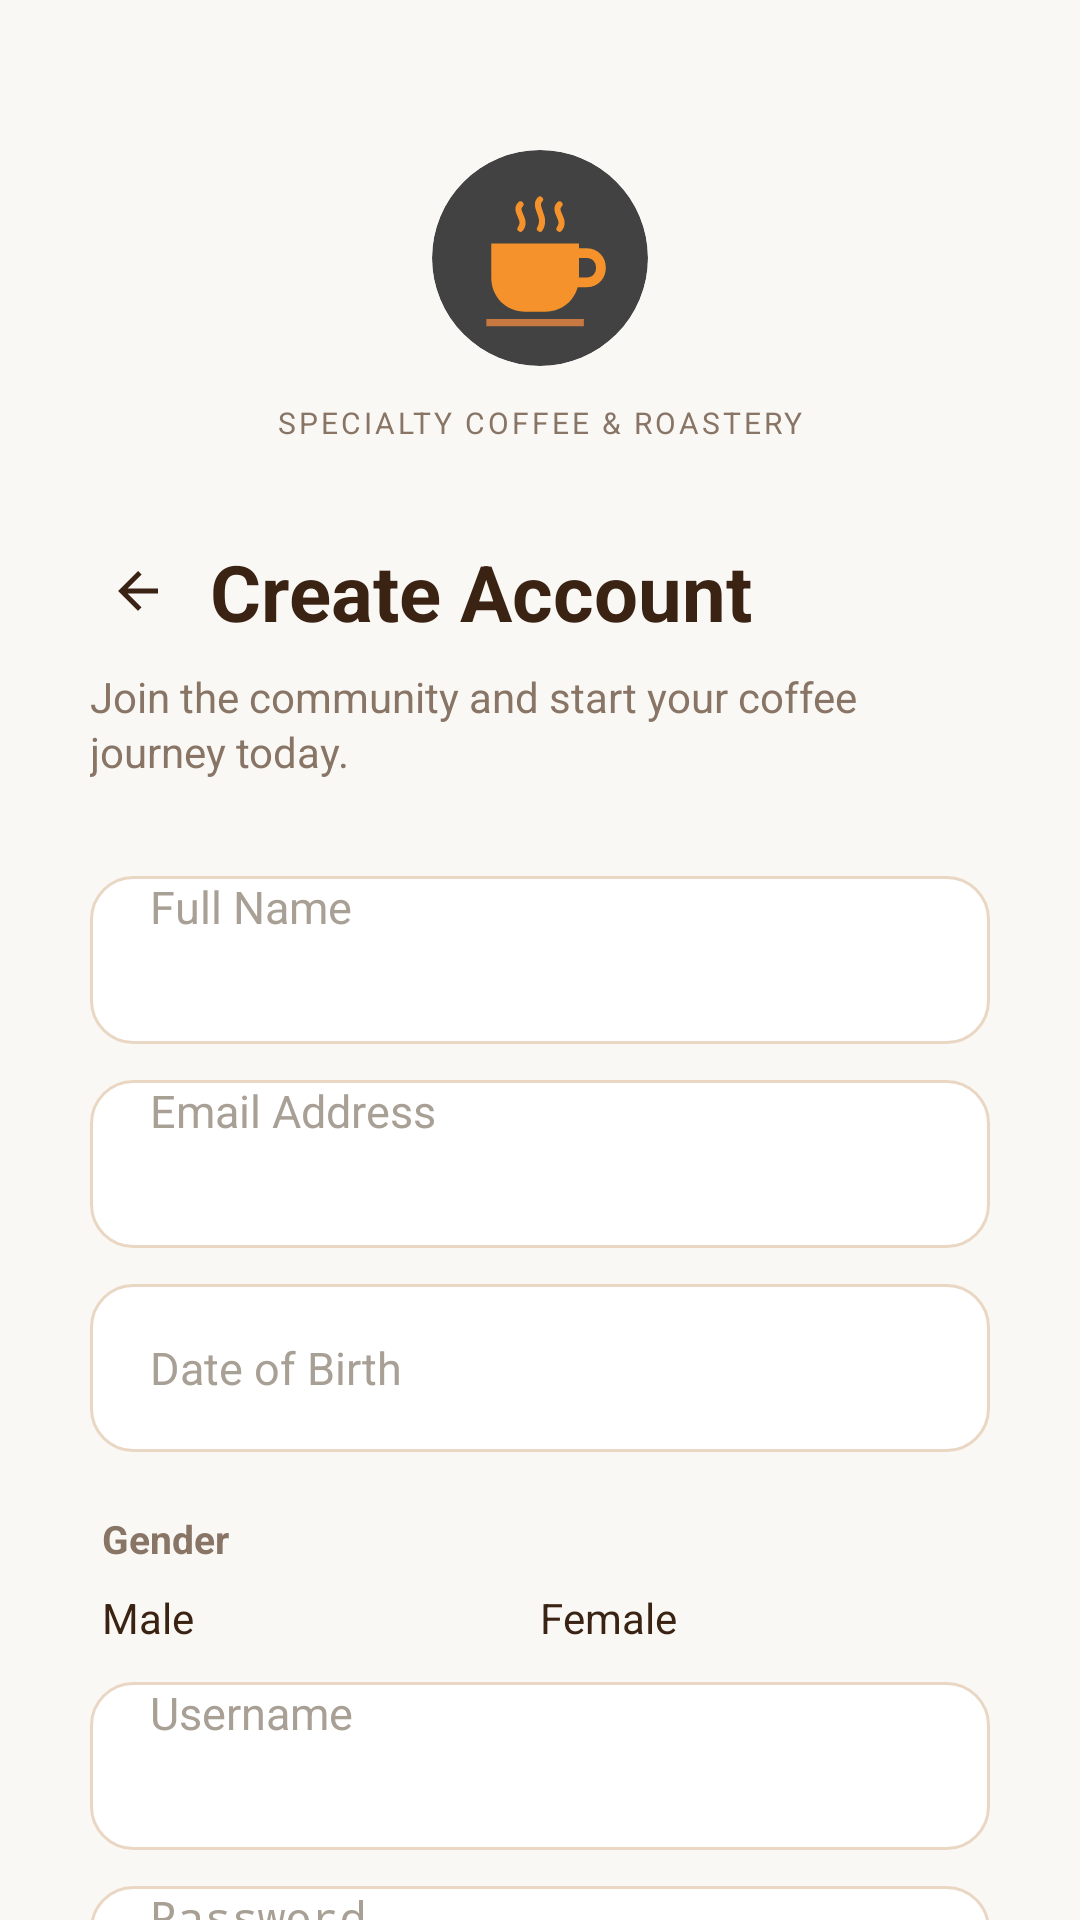

Icon bounding boxes for this 1080*1920 phone screenshot, format (x1, y1, x2, y2):
arrow back: (118, 571, 158, 611)
